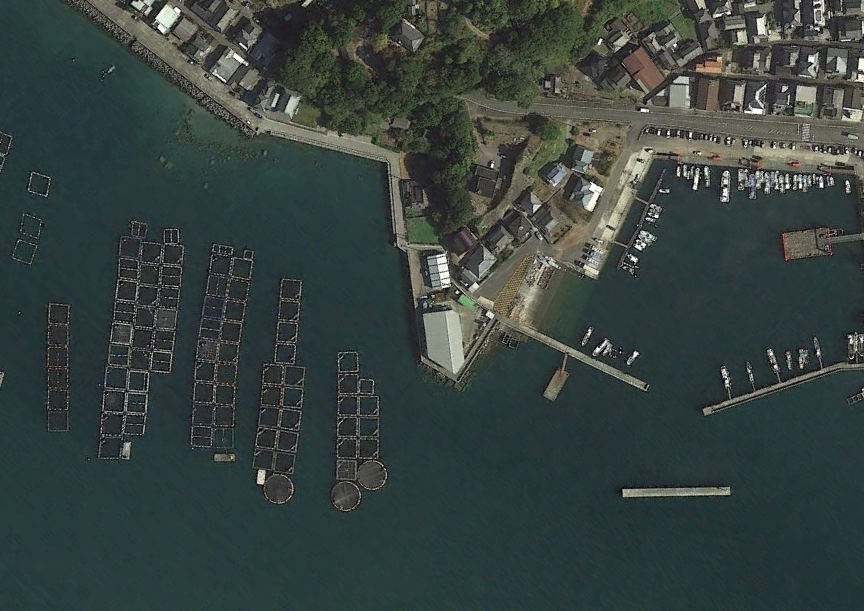circle: (261, 472, 298, 509), (354, 459, 392, 493), (329, 480, 365, 515)
house: (421, 303, 468, 378), (621, 39, 669, 94), (565, 173, 609, 213), (400, 171, 437, 217), (460, 238, 495, 284), (421, 251, 454, 294), (532, 203, 570, 240), (210, 47, 246, 86), (387, 18, 426, 53), (471, 159, 504, 200), (692, 71, 722, 113), (185, 31, 219, 68), (663, 70, 693, 110), (265, 88, 303, 119), (234, 17, 266, 53), (447, 218, 476, 257), (502, 208, 533, 242), (719, 73, 746, 112), (744, 76, 769, 116), (798, 43, 824, 81), (169, 14, 198, 48), (213, 1, 243, 33), (151, 2, 180, 35), (654, 17, 682, 51), (774, 43, 800, 79), (485, 222, 515, 253), (821, 80, 846, 117), (540, 70, 571, 99), (568, 143, 595, 176), (771, 78, 795, 115), (747, 44, 774, 76), (826, 43, 849, 80), (694, 52, 729, 76), (238, 64, 265, 95), (673, 36, 702, 64), (517, 185, 543, 216), (795, 81, 817, 117), (843, 81, 864, 116), (604, 26, 632, 52), (747, 9, 771, 39), (542, 157, 567, 185), (605, 64, 631, 90), (809, 1, 827, 35), (779, 6, 803, 30), (849, 46, 864, 77), (721, 12, 748, 29), (729, 29, 752, 46)
ship: (719, 167, 732, 205), (579, 324, 595, 347), (623, 349, 642, 367), (748, 171, 758, 201), (638, 228, 658, 242), (735, 168, 746, 193), (701, 164, 712, 188), (842, 176, 853, 196), (777, 170, 786, 192), (632, 238, 649, 249), (642, 215, 658, 226), (762, 172, 770, 194), (626, 252, 642, 262), (646, 210, 661, 220), (630, 243, 646, 252), (801, 174, 808, 194), (656, 186, 671, 195), (649, 203, 664, 212), (816, 174, 824, 189), (827, 175, 836, 188), (792, 173, 798, 192)
square: (99, 362, 133, 393), (24, 167, 54, 200), (6, 237, 40, 266), (99, 387, 131, 417), (16, 210, 46, 241), (148, 304, 180, 333), (126, 325, 160, 352), (247, 445, 278, 473), (156, 242, 188, 269), (42, 366, 75, 392), (38, 322, 72, 347), (104, 340, 133, 369), (113, 256, 144, 283), (219, 298, 251, 324), (200, 272, 232, 298), (122, 389, 154, 415), (43, 299, 72, 327), (155, 262, 184, 290), (112, 277, 142, 304), (227, 254, 258, 280), (120, 411, 151, 437), (43, 408, 75, 433), (95, 435, 127, 460), (104, 322, 136, 347), (354, 433, 382, 461), (217, 318, 245, 346), (151, 326, 179, 354), (277, 274, 304, 303), (135, 239, 164, 266), (109, 300, 138, 327), (254, 403, 284, 429), (191, 335, 221, 361), (224, 277, 254, 303), (126, 346, 156, 372), (195, 316, 226, 341), (133, 263, 164, 288), (152, 286, 184, 310), (44, 341, 71, 369), (149, 348, 177, 375), (198, 294, 227, 320), (97, 410, 127, 435), (272, 409, 306, 431), (189, 400, 216, 427), (212, 381, 239, 408), (251, 424, 279, 450), (44, 386, 72, 412), (210, 402, 238, 428), (132, 283, 160, 309), (355, 413, 384, 438), (211, 359, 240, 384), (213, 339, 242, 364), (123, 368, 152, 393), (276, 386, 306, 410), (205, 252, 235, 276), (334, 370, 361, 396), (260, 360, 286, 387), (115, 233, 142, 259), (273, 320, 301, 345), (271, 341, 299, 366), (189, 422, 214, 449), (209, 425, 236, 450), (333, 458, 361, 482), (274, 299, 302, 323), (280, 364, 308, 388), (191, 358, 219, 382), (131, 306, 159, 330), (272, 431, 303, 452), (335, 348, 361, 373), (191, 379, 217, 404), (257, 383, 284, 407), (268, 455, 302, 474), (356, 393, 382, 417), (335, 393, 360, 416), (334, 416, 360, 438), (333, 438, 358, 460), (158, 226, 183, 245), (128, 217, 148, 240), (357, 376, 377, 395)
